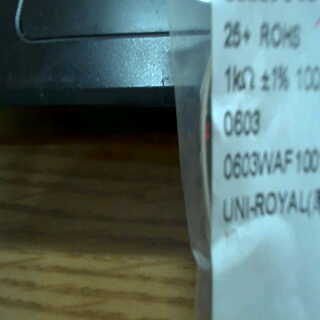1kR: (222, 61, 261, 95)
